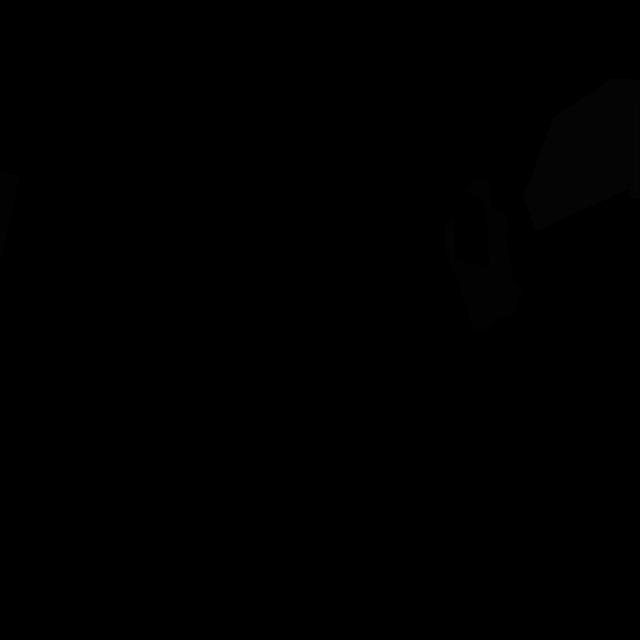cardboard: (445, 177, 523, 331), (0, 172, 20, 265)
soft_plastic: (524, 79, 640, 231)
